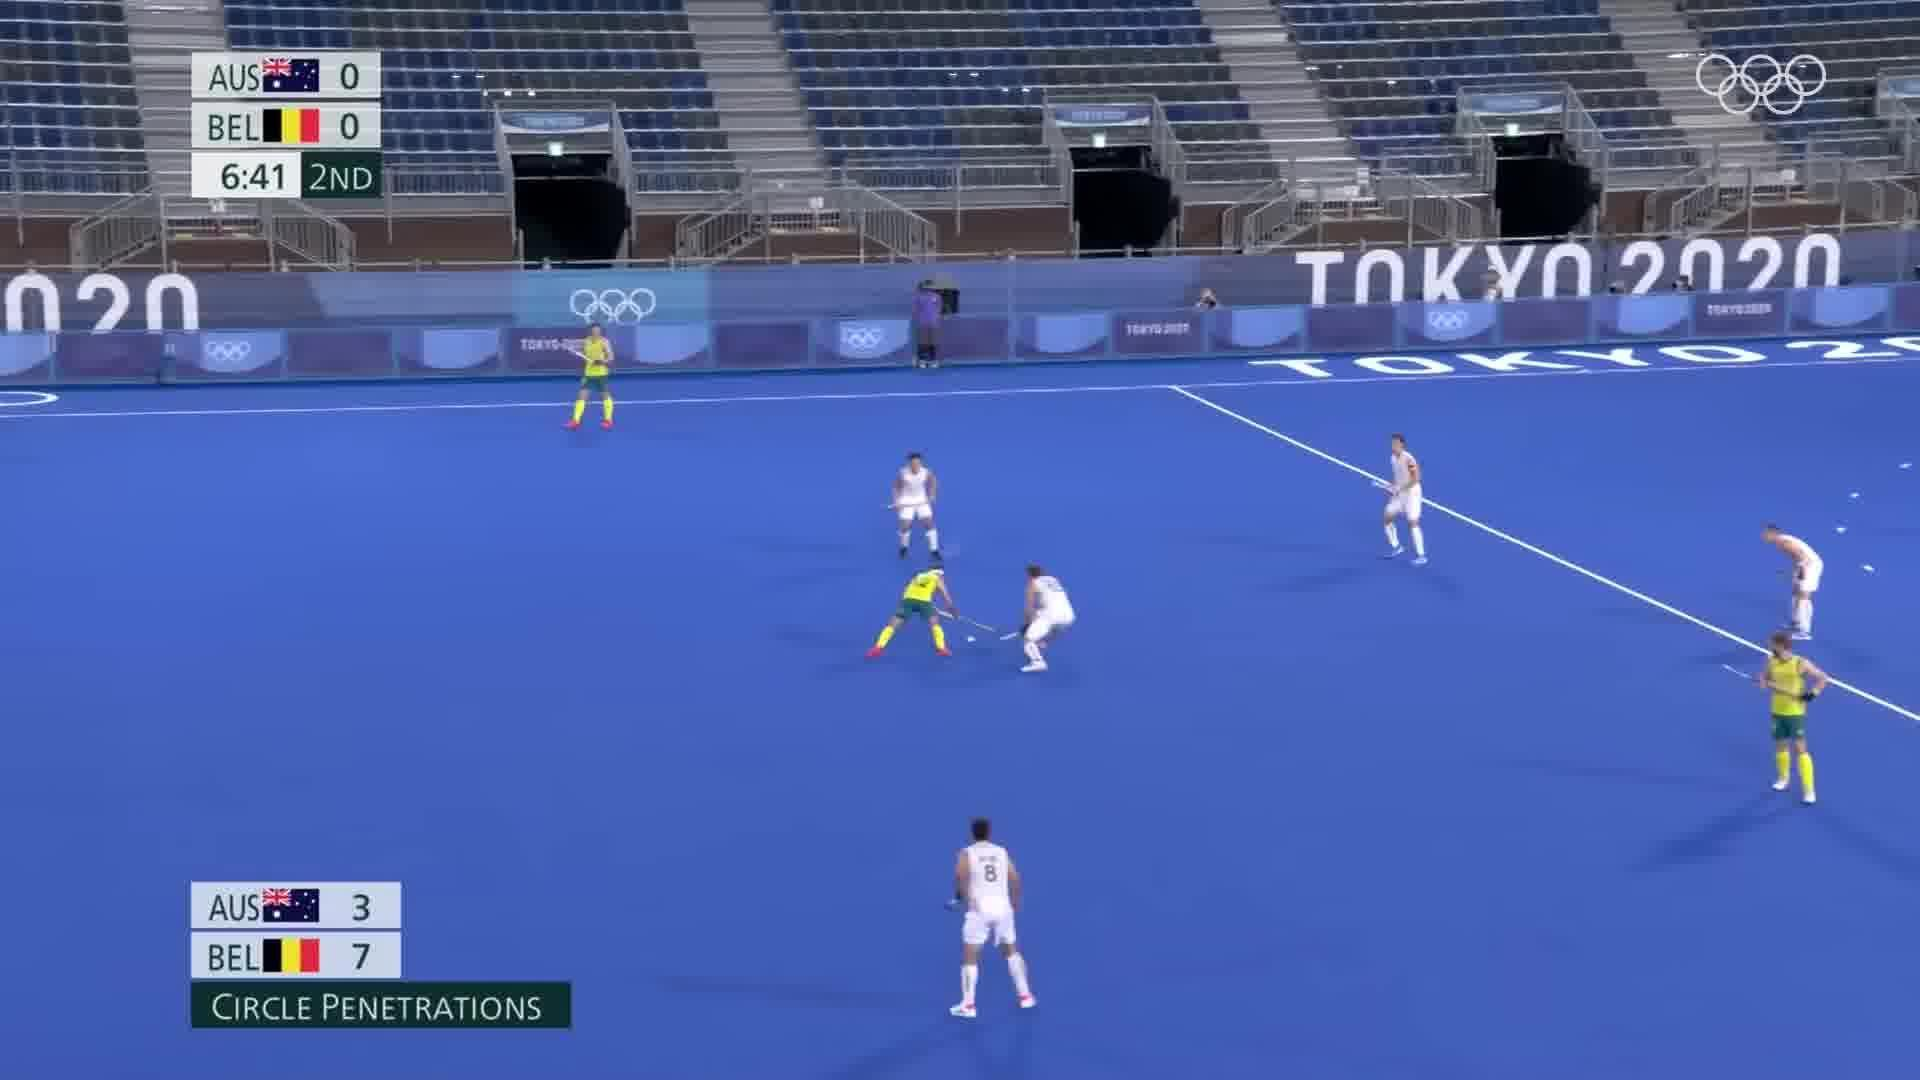ball: (963, 630, 983, 650)
